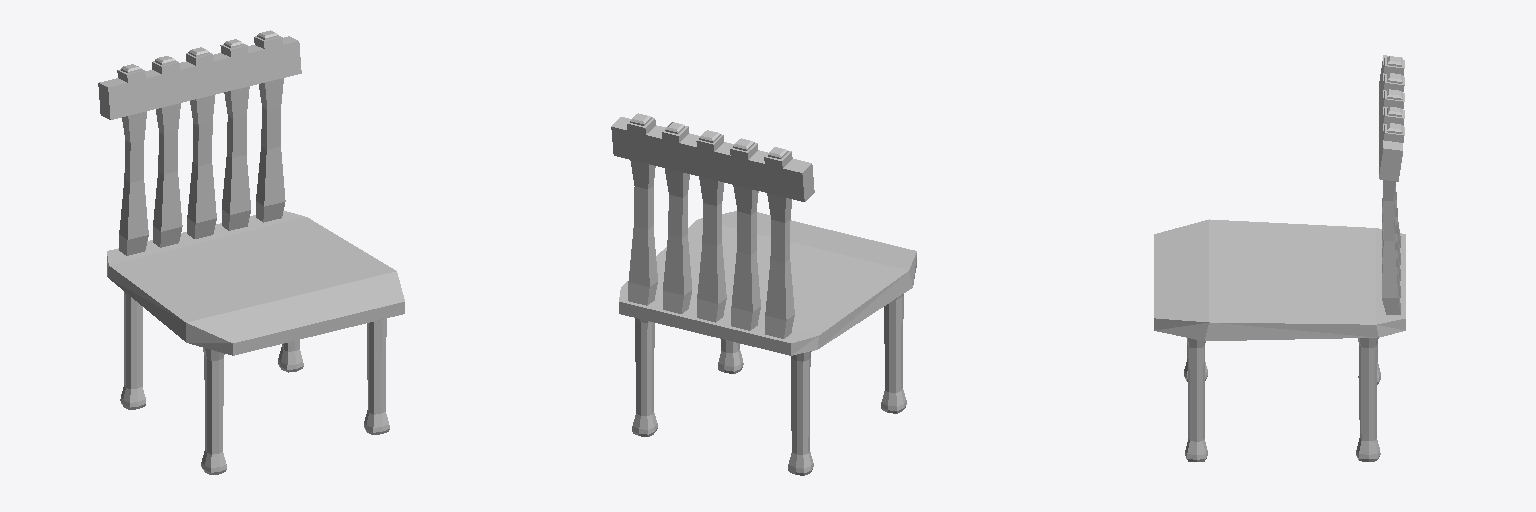
File: ChairTexture.obj
3 views of the same model, side by side, from view 1: azimuth 30°, elevation 25°; view 2: azimuth 150°, elevation 25°; view 3: azimuth 270°, elevation 25° (orthographic).
Parts seen in each view (by area): view 1: chair_seat, Back1 Back_2 Back_3 Back_5 Back_4, ChairTop, leg_4 leg_3 leg_2 leg_1; view 2: chair_seat, Back1 Back_2 Back_3 Back_5 Back_4, ChairTop, leg_4 leg_3 leg_2 leg_1; view 3: chair_seat, leg_4 leg_3 leg_2 leg_1, ChairTop, Back1 Back_2 Back_3 Back_5 Back_4.
Part boxes in pixels (x1,y1,x2,y2): chair_seat: (107, 211, 404, 355); Back1 Back_2 Back_3 Back_5 Back_4: (119, 78, 285, 255); ChairTop: (98, 30, 301, 119); leg_4 leg_3 leg_2 leg_1: (120, 292, 389, 474); chair_seat: (619, 211, 916, 355); Back1 Back_2 Back_3 Back_5 Back_4: (628, 160, 794, 338); ChairTop: (611, 113, 814, 201); leg_4 leg_3 leg_2 leg_1: (632, 294, 906, 475); chair_seat: (1154, 219, 1405, 340); leg_4 leg_3 leg_2 leg_1: (1184, 338, 1380, 461); ChairTop: (1379, 55, 1404, 181); Back1 Back_2 Back_3 Back_5 Back_4: (1382, 180, 1400, 314).
Bounding box in the file's own units: 4.88 × 7.15 × 4.97.